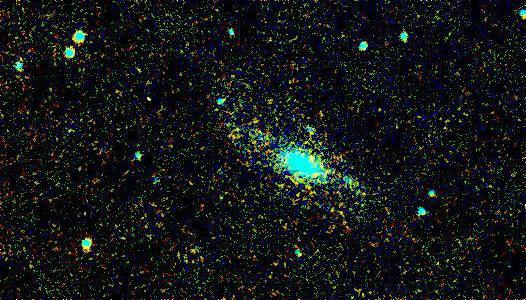star: (178, 239, 208, 269)
